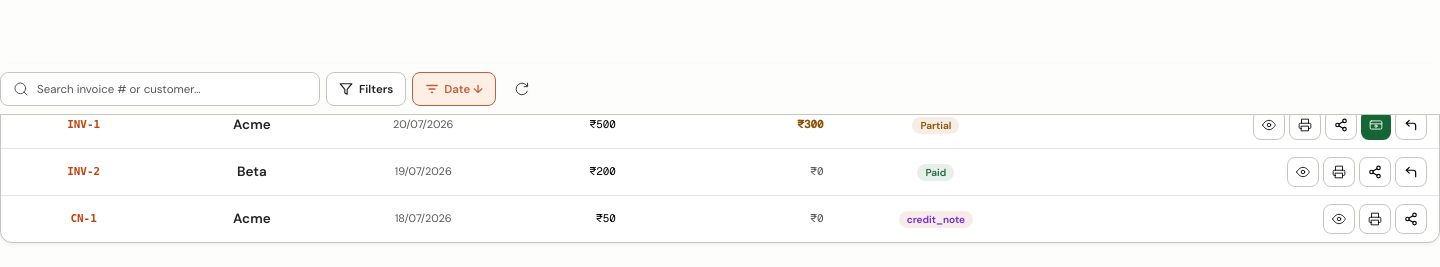
Scenario: InvoicesListView › right-click menu honours the same norms gating as the buttons
This screenshot has width=1440, height=267.
expect the text "INV-1" is shown: met, box [1, 102, 166, 149]
Right-click the text "INV-1" at (720, 125), box [1, 102, 1439, 149]
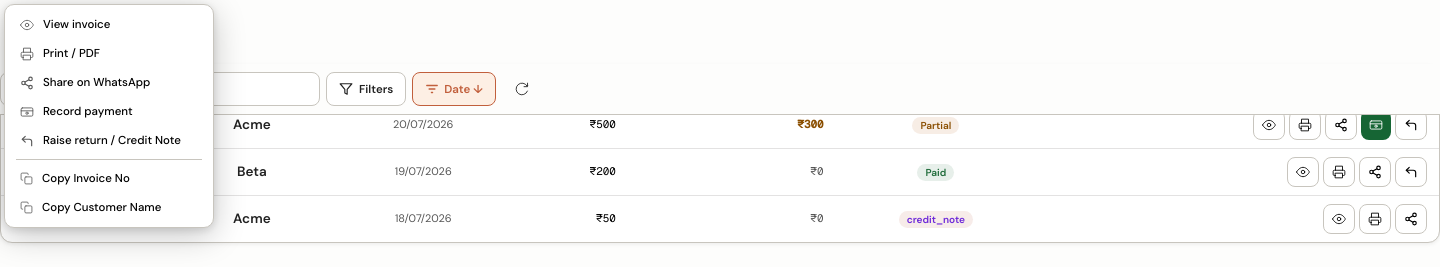
expect the element with class "ctx-menu" shows "Record payment": met, box [10, 97, 208, 126]
Right-click the text "INV-2" at (720, 172), box [1, 149, 1439, 196]
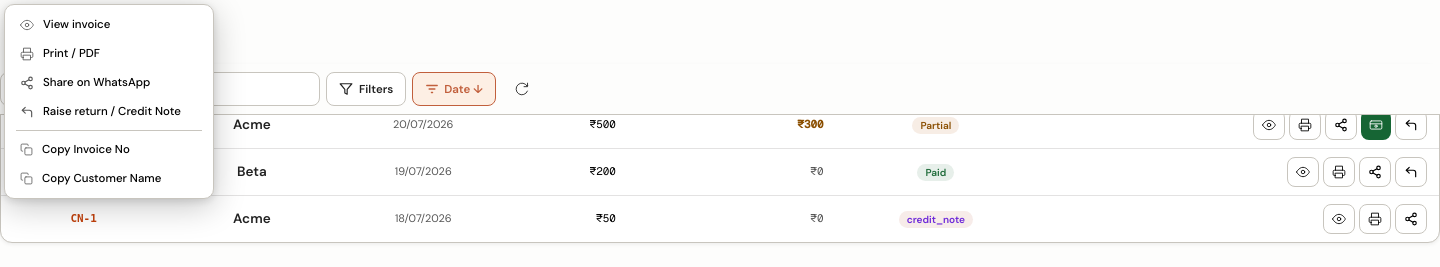
expect the element with class "ctx-menu" shows "View invoice": met, box [10, 10, 208, 39]
expect the button with class "ctx-menu" no longer shows "Record payment": met
